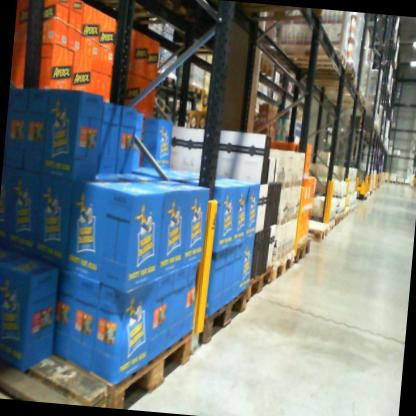pallet: (32, 301, 195, 412), (0, 330, 123, 405), (193, 274, 252, 367), (72, 0, 198, 35), (226, 3, 321, 37), (273, 44, 349, 77), (299, 58, 359, 84), (245, 257, 275, 304), (268, 246, 296, 288), (299, 215, 330, 244), (293, 232, 314, 265), (250, 57, 276, 82), (157, 70, 181, 88), (325, 217, 337, 233), (330, 212, 342, 228), (190, 85, 203, 94), (340, 211, 345, 222)
